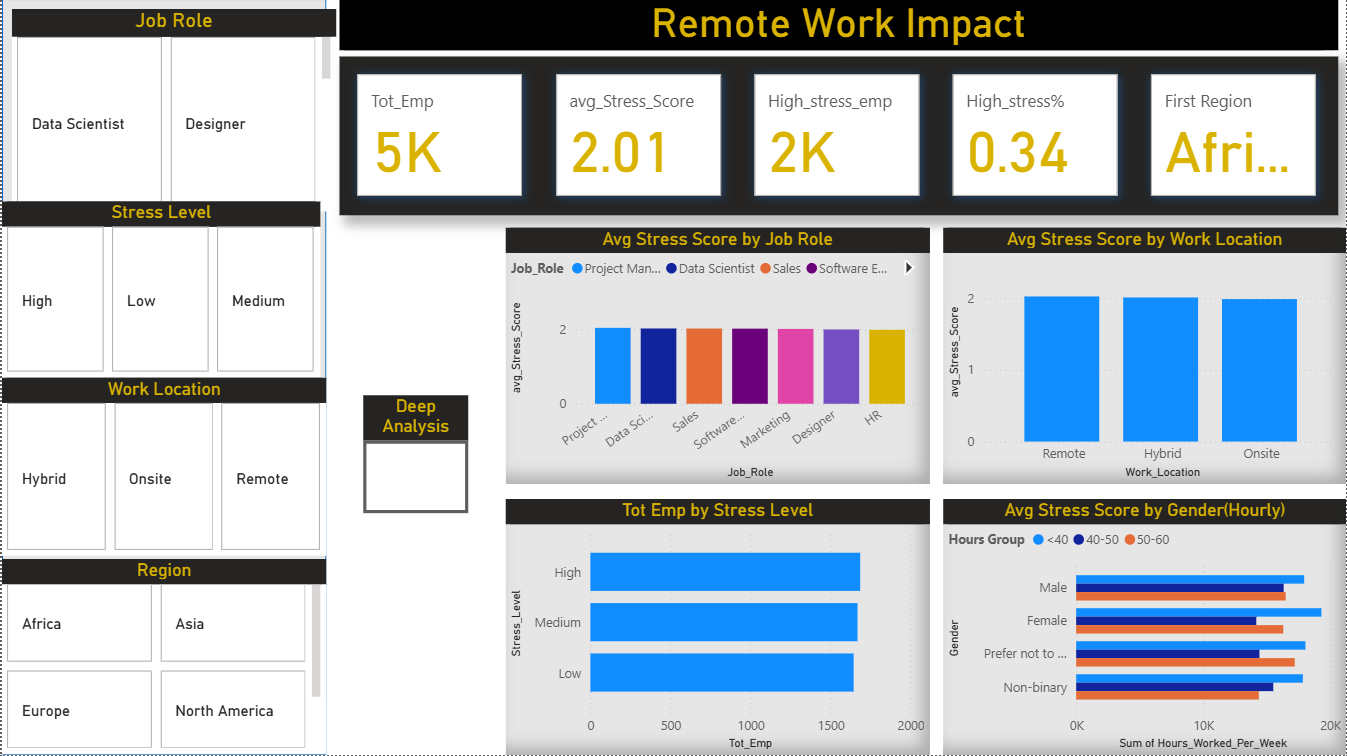

Layout of this report page (visuals, bound fields, positions):
{"tool":"powerbi","page":{"name":"Page 1","canvas":[1280,720],"ordinal":0},"visuals":[{"type":"columnChart","title":"Avg Stress Score by Job Role","fields":{"Category":["Impact_of_Remote_Work_on_Mental_Health.Job_Role"],"Y":["Impact_of_Remote_Work_on_Mental_Health.avg_Stress_Score"],"Series":["Impact_of_Remote_Work_on_Mental_Health.Job_Role"]},"box":[480,218.2,403.6,243.6],"z":0},{"type":"barChart","title":"Tot Emp by Stress Level","fields":{"Category":["Impact_of_Remote_Work_on_Mental_Health.Stress_Level"],"Y":["Impact_of_Remote_Work_on_Mental_Health.Tot_Emp"]},"box":[480,476.4,403.6,243.6],"z":1000},{"type":"clusteredColumnChart","title":"Avg Stress Score by Work Location","fields":{"Category":["Impact_of_Remote_Work_on_Mental_Health.Work_Location"],"Y":["Impact_of_Remote_Work_on_Mental_Health.avg_Stress_Score"]},"box":[896.4,218.2,383.6,243.6],"z":2000},{"type":"clusteredBarChart","title":"Avg Stress Score by Gender(Hourly)","fields":{"Category":["Impact_of_Remote_Work_on_Mental_Health.Gender"],"Y":["Sum(Impact_of_Remote_Work_on_Mental_Health.Hours_Worked_Per_Week)"],"Series":["Impact_of_Remote_Work_on_Mental_Health.Hours Group"]},"box":[896.4,476.4,383.6,243.6],"z":3000},{"type":"textbox","title":"Remote Work Impact","box":[321.8,0,950.9,54.5],"z":4000},{"type":"cardVisual","fields":{"Data":["Impact_of_Remote_Work_on_Mental_Health.Tot_Emp","Impact_of_Remote_Work_on_Mental_Health.avg_Stress_Score","Impact_of_Remote_Work_on_Mental_Health.High_stress_emp","Impact_of_Remote_Work_on_Mental_Health.High_stress%","Min(Impact_of_Remote_Work_on_Mental_Health.Region)"]},"box":[321.8,54.5,950.9,150.9],"z":5000},{"type":"shape","box":[0,0,308.9,719.6],"z":5001},{"type":"advancedSlicerVisual","title":"Job Role","fields":{"Values":["Impact_of_Remote_Work_on_Mental_Health.Job_Role"]},"box":[10,10,308.9,192.9],"z":5002},{"type":"advancedSlicerVisual","title":"Stress Level","fields":{"Values":["Impact_of_Remote_Work_on_Mental_Health.Stress_Level"]},"box":[0,192.9,303.6,167.9],"z":5003},{"type":"advancedSlicerVisual","title":"Work Location","fields":{"Values":["Impact_of_Remote_Work_on_Mental_Health.Work_Location"]},"box":[0,360.7,308.9,169.6],"z":5004},{"type":"advancedSlicerVisual","fields":{"Values":["Impact_of_Remote_Work_on_Mental_Health.Region"]},"box":[0,533.9,308.9,185.7],"z":5005},{"type":"actionButton","title":"Deep Analysis","box":[344.6,376.8,100,112.5],"z":5006}]}

Visuals, with their boxes in screenshot pixels (x1, y1, x2, y2), scaled from the page's 1280x720 canvas onto the 1347x756 screenshot:
"Avg Stress Score by Job Role" columnChart: box(505, 229, 930, 485)
"Tot Emp by Stress Level" barChart: box(505, 500, 930, 755)
"Avg Stress Score by Work Location" clusteredColumnChart: box(943, 229, 1346, 485)
"Avg Stress Score by Gender(Hourly)" clusteredBarChart: box(943, 500, 1346, 755)
"Remote Work Impact" textbox: box(339, 0, 1339, 57)
cardVisual - Impact_of_Remote_Work_on_Mental_Health.Tot_Emp x Impact_of_Remote_Work_on_Mental_Health.avg_Stress_Score: box(339, 57, 1339, 216)
shape: box(0, 0, 325, 755)
"Job Role" advancedSlicerVisual: box(11, 10, 336, 213)
"Stress Level" advancedSlicerVisual: box(0, 203, 319, 379)
"Work Location" advancedSlicerVisual: box(0, 379, 325, 557)
advancedSlicerVisual - Impact_of_Remote_Work_on_Mental_Health.Region: box(0, 561, 325, 755)
"Deep Analysis" actionButton: box(363, 396, 468, 514)
